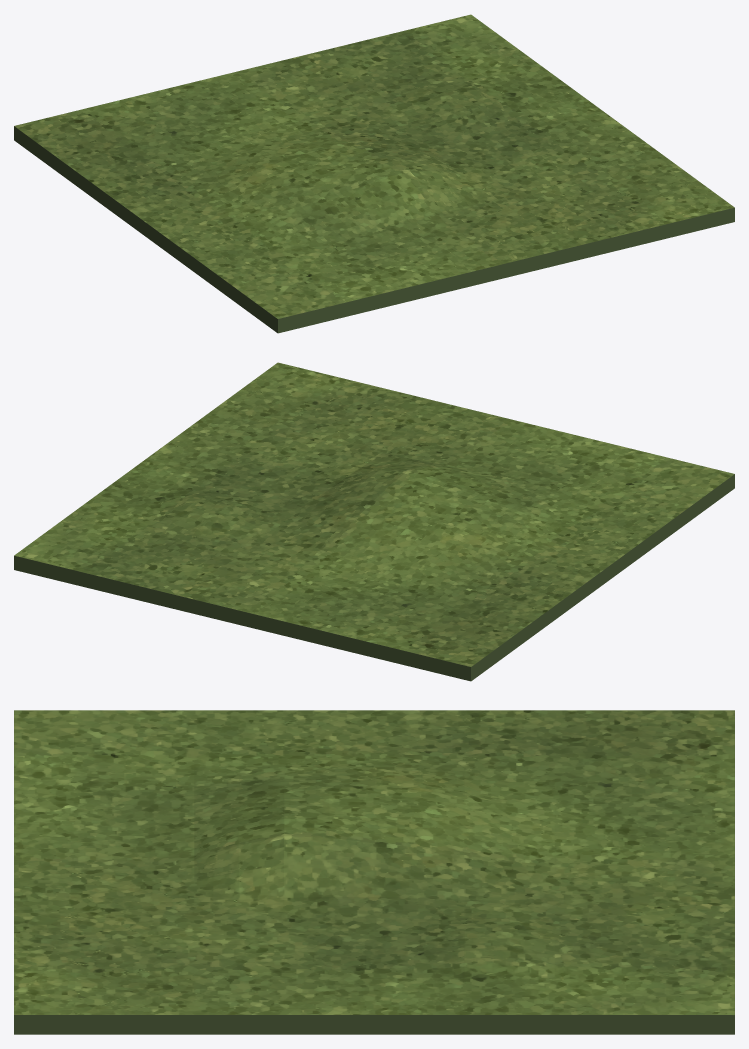
The model's file is 3DObj_Grassland_V2.fbx.
3 renders of one model, top to bottom at view 1: azimuth 30°, elevation 25°; view 2: azimuth 150°, elevation 25°; view 3: azimuth 270°, elevation 25°, orthographic. The views are drawn at different scales.
Parts seen in each view (by area): view 1: 3DObj_Grassland_V2; view 2: 3DObj_Grassland_V2; view 3: 3DObj_Grassland_V2.
Part boxes in pixels (box(x1,y1,x2,y2)): 3DObj_Grassland_V2: box(14, 14, 734, 333); 3DObj_Grassland_V2: box(14, 362, 734, 681); 3DObj_Grassland_V2: box(14, 710, 734, 1034).
Bounding box in the file's own units: 1000 × 70.6 × 1000.
Materials: 1 (1 with a texture image).
